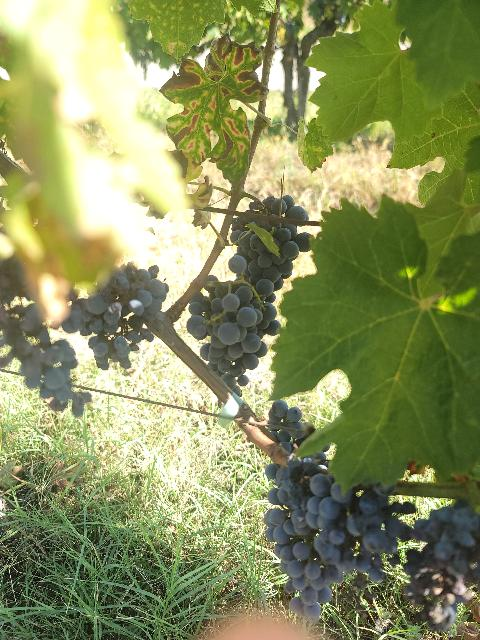grapes: (306, 469, 415, 582), (264, 459, 335, 622), (404, 500, 480, 630), (186, 288, 279, 394), (229, 195, 310, 295)
